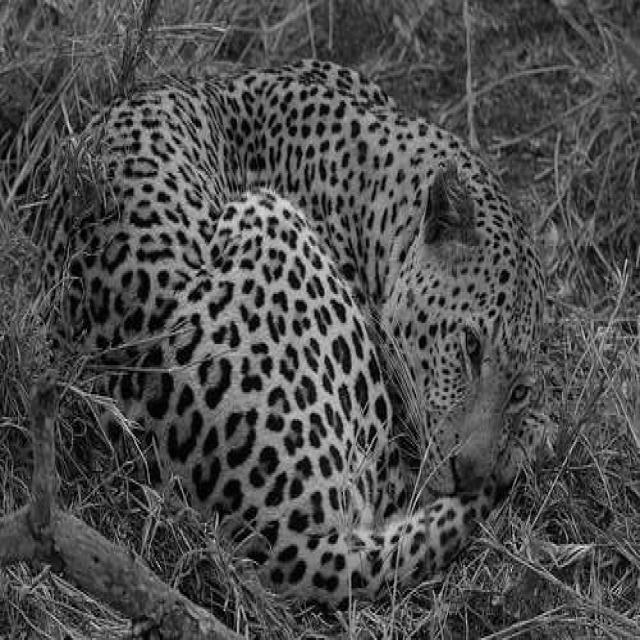Leopard: (31, 54, 549, 609)
